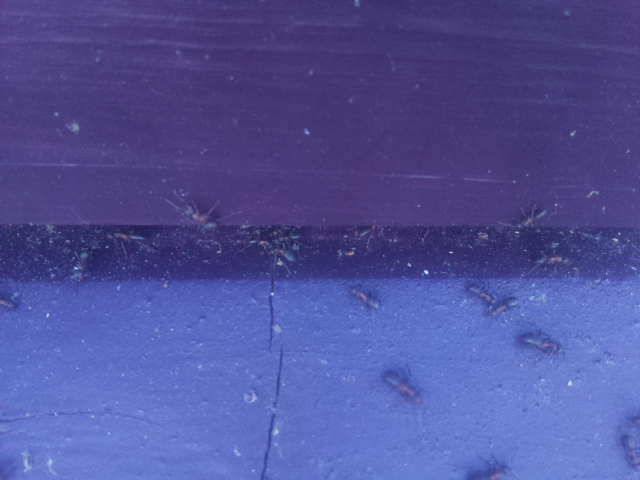ant: (376, 359, 428, 412), (175, 194, 227, 238), (513, 322, 566, 363), (69, 244, 94, 291), (466, 279, 496, 317), (514, 204, 552, 230), (350, 283, 378, 315), (492, 293, 517, 322)
